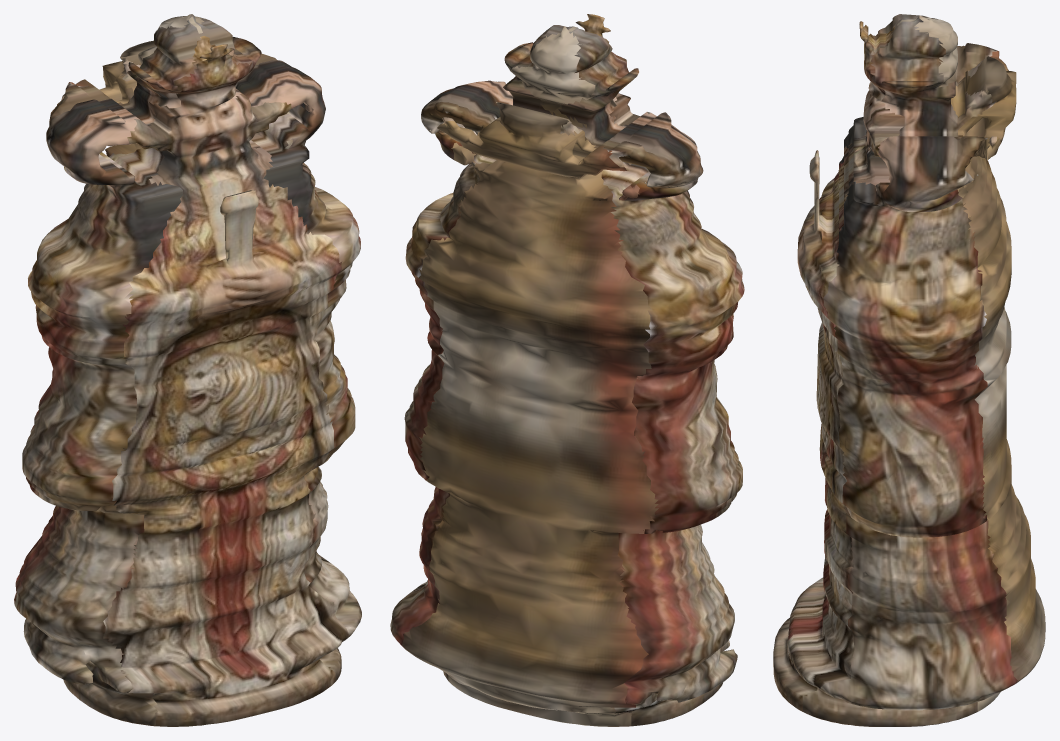
Rendered from tiger-general.glb.
3 renders of one model, left to right at view 1: azimuth 30°, elevation 25°; view 2: azimuth 150°, elevation 25°; view 3: azimuth 270°, elevation 25°, orthographic.
Parts seen in each view (by area): view 1: tiger-general; view 2: tiger-general; view 3: tiger-general.
Part boxes in pixels (box(x1,y1,x2,y2)): tiger-general: box(14, 14, 361, 726); tiger-general: box(390, 14, 744, 726); tiger-general: box(773, 14, 1045, 726).
Size of the model in its own units: 0.5068 by 1.01 by 0.3783.
Materials: 1 (1 with a texture image).
